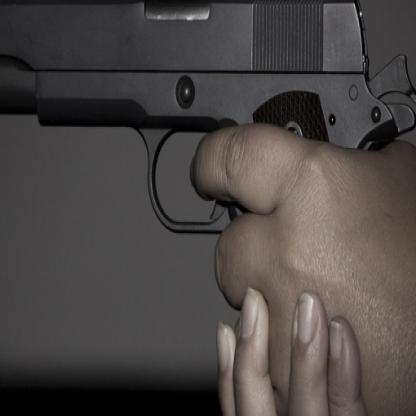gun: (0, 0, 415, 264)
